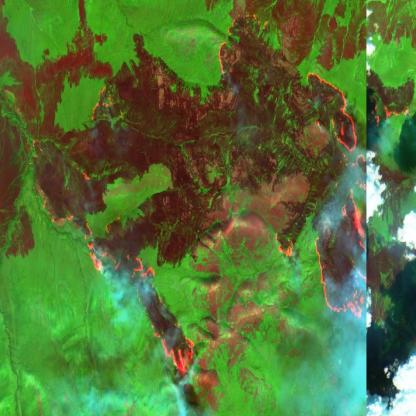fire: (80, 224, 202, 380), (272, 172, 370, 333), (296, 59, 360, 161), (207, 1, 264, 77), (85, 75, 115, 125)
